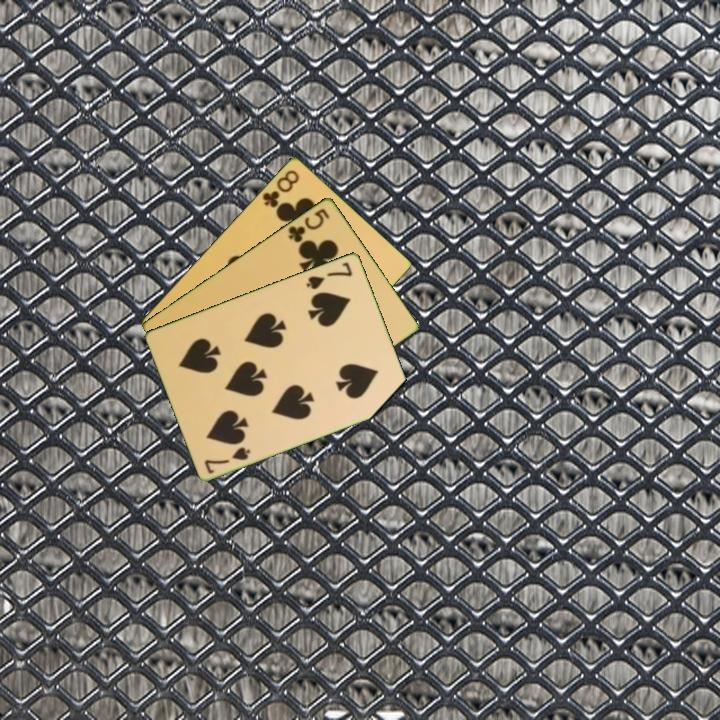5c: (284, 204, 332, 245)
7s: (302, 258, 355, 292), (201, 443, 254, 476)
8c: (259, 166, 302, 211)
